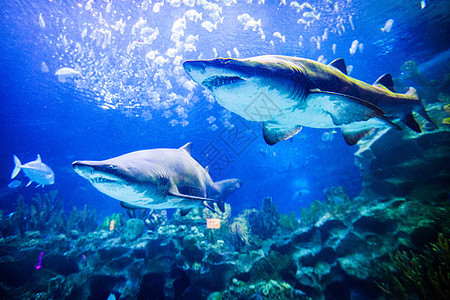shark: (178, 54, 443, 149), (56, 137, 249, 220)
